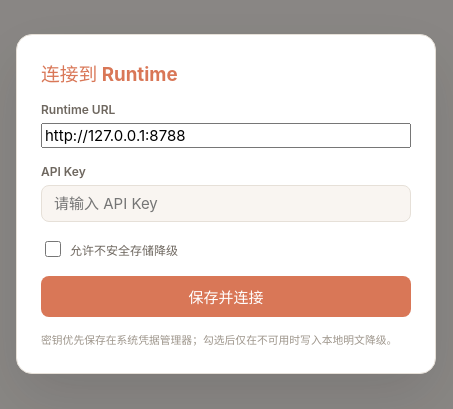
Test: ConnectionSetup › validates URL format
Type "not-a-valid-url" into the field labelled "Runtime URL" at point(226, 136), box [41, 123, 411, 148]
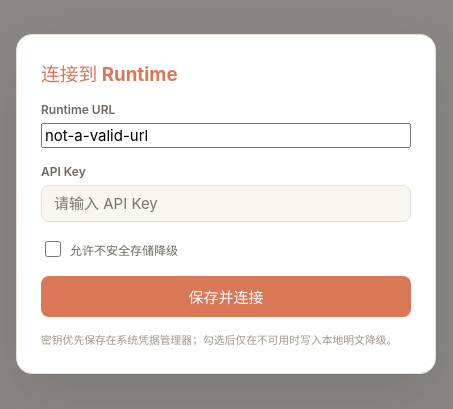
Type "test-key" into the password field labelled "API Key" at point(226, 204), box [41, 185, 411, 222]
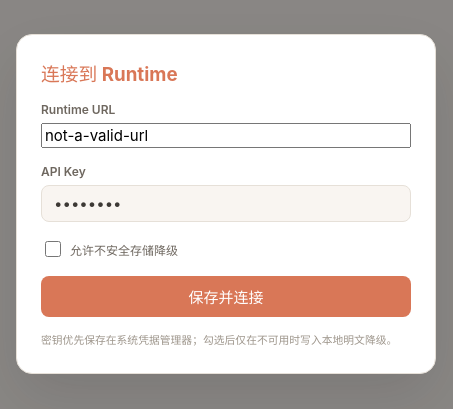
Click the button "保存并连接" at point(226, 297), box [41, 276, 411, 317]
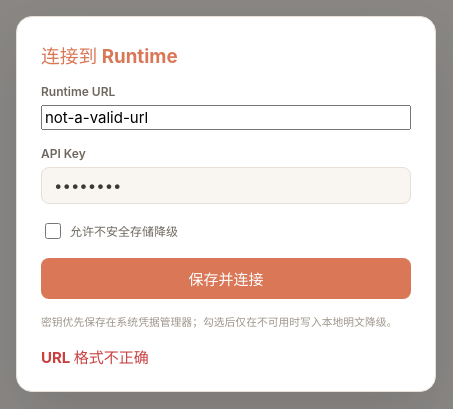
Expected: the text "URL 格式不正确" is shown, [41, 348, 149, 367]
